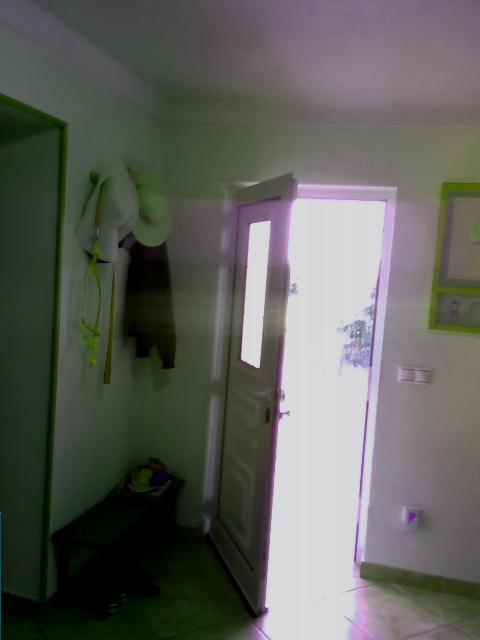semi_door: (201, 168, 397, 621)
